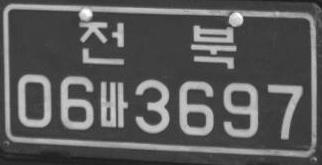0: (17, 72, 52, 128)
3: (135, 77, 170, 133)
6: (177, 79, 214, 136), (59, 74, 94, 129)
7: (266, 82, 305, 140)
9: (222, 81, 258, 138)
바: (99, 80, 128, 127)
전북_D: (79, 21, 236, 70)
